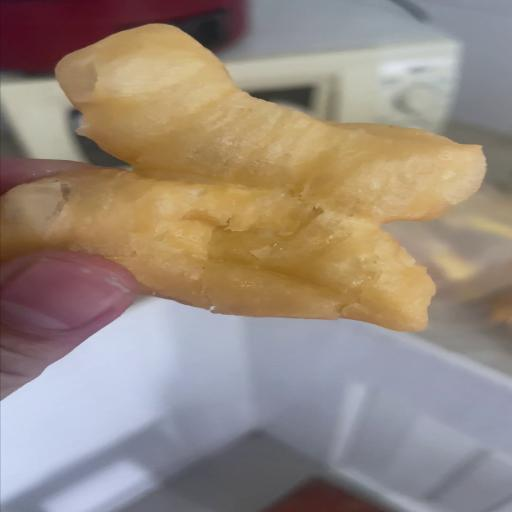street_golden_defect: (1, 22, 485, 354)
